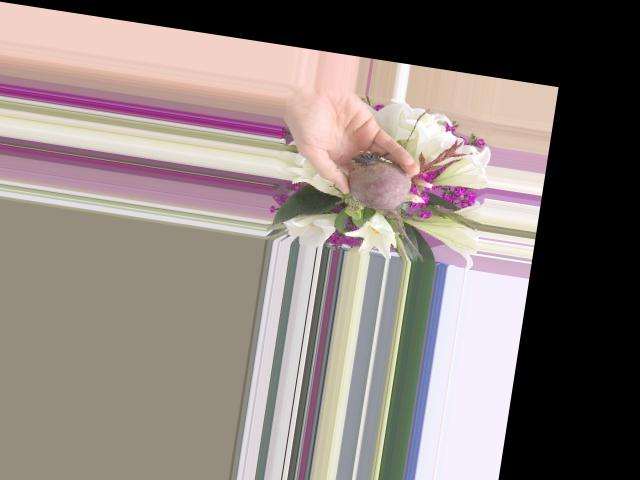beet: (337, 148, 439, 260)
